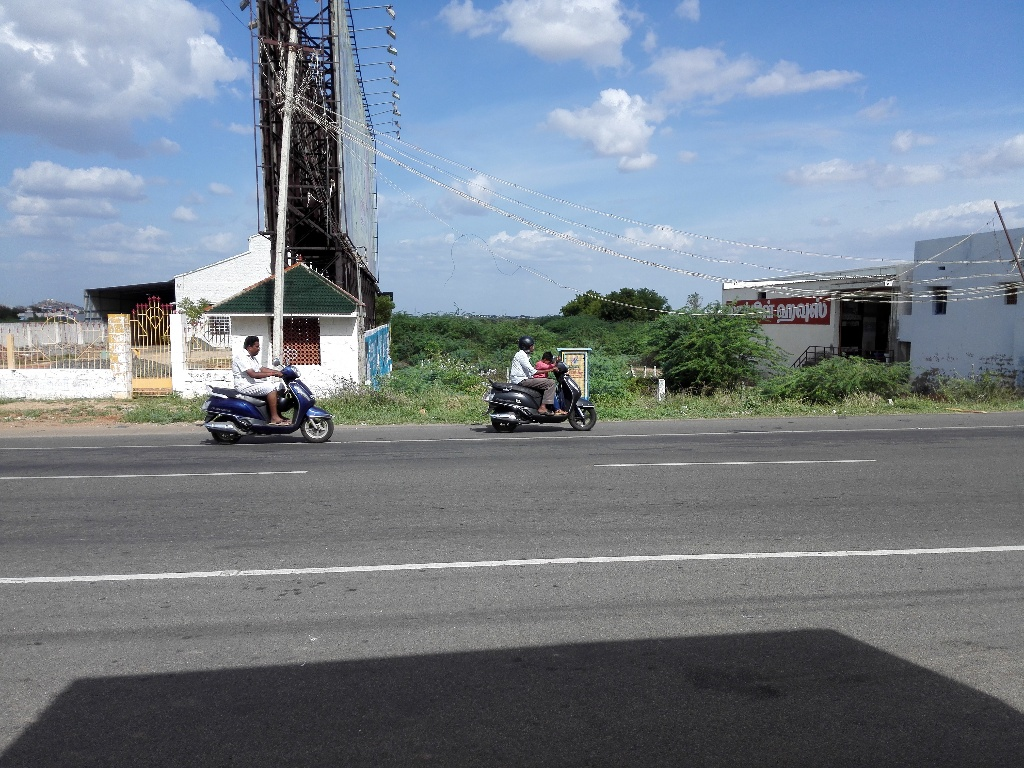biker: (190, 301, 347, 453), (466, 292, 623, 444)
helmet: (515, 326, 541, 367)
nohelmet: (238, 326, 271, 371), (538, 339, 560, 372)
